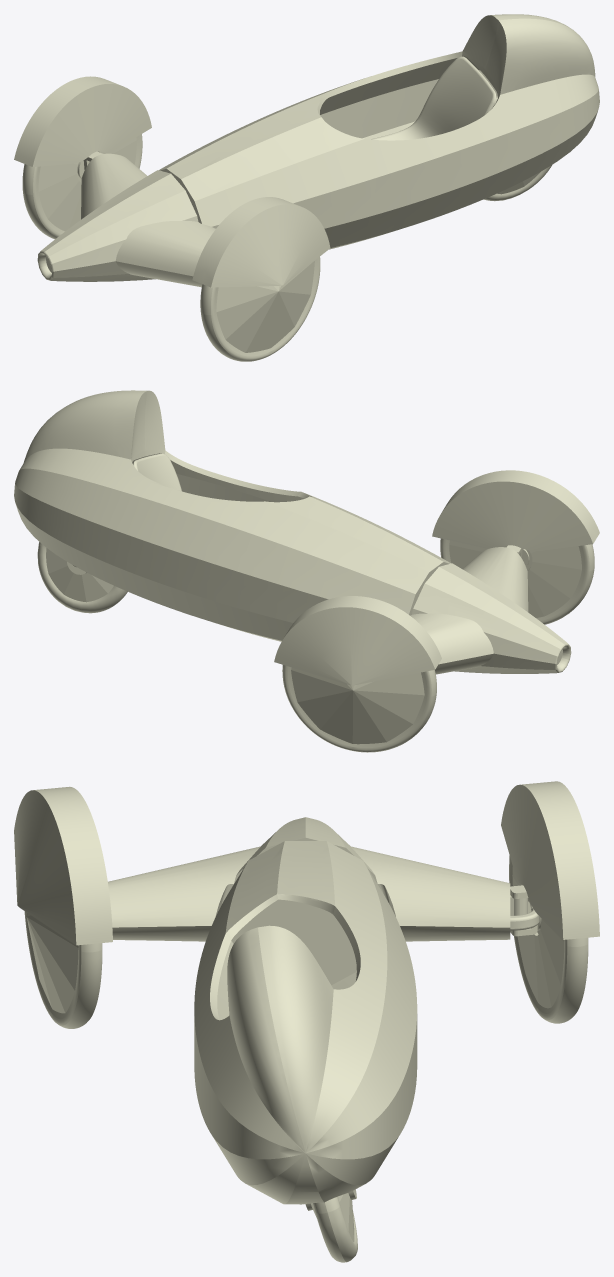
Rendered from ECAR_07.dae.
3 views of the same model, one above another, from view 1: azimuth 30°, elevation 25°; view 2: azimuth 150°, elevation 25°; view 3: azimuth 270°, elevation 25° (orthographic). The views are drawn at different scales.
Visible parts, largest first — view 1: SketchUp (×36); view 2: SketchUp (×44); view 3: SketchUp (×33).
Part boxes in pixels (<box>): SketchUp (×36): <box>14,15,599,361</box>; SketchUp (×44): <box>14,390,599,751</box>; SketchUp (×33): <box>14,781,599,1262</box>.
Size of the model in its own units: 12.57 by 8.06 by 4.69.
